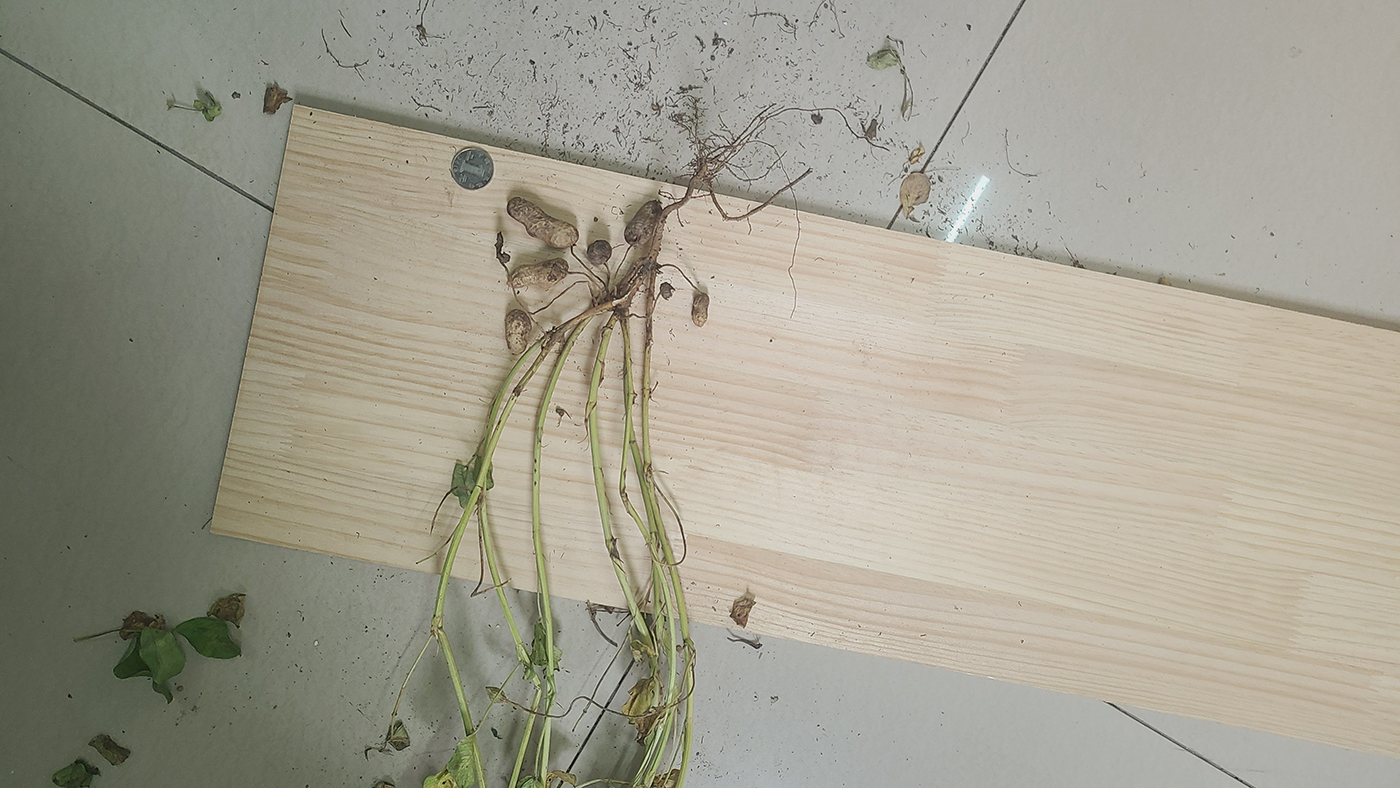h: (504, 308, 532, 353)
l: (507, 197, 578, 248), (507, 259, 570, 291), (623, 201, 663, 246), (587, 239, 613, 263), (691, 294, 710, 326), (496, 232, 511, 265), (659, 282, 676, 299)
